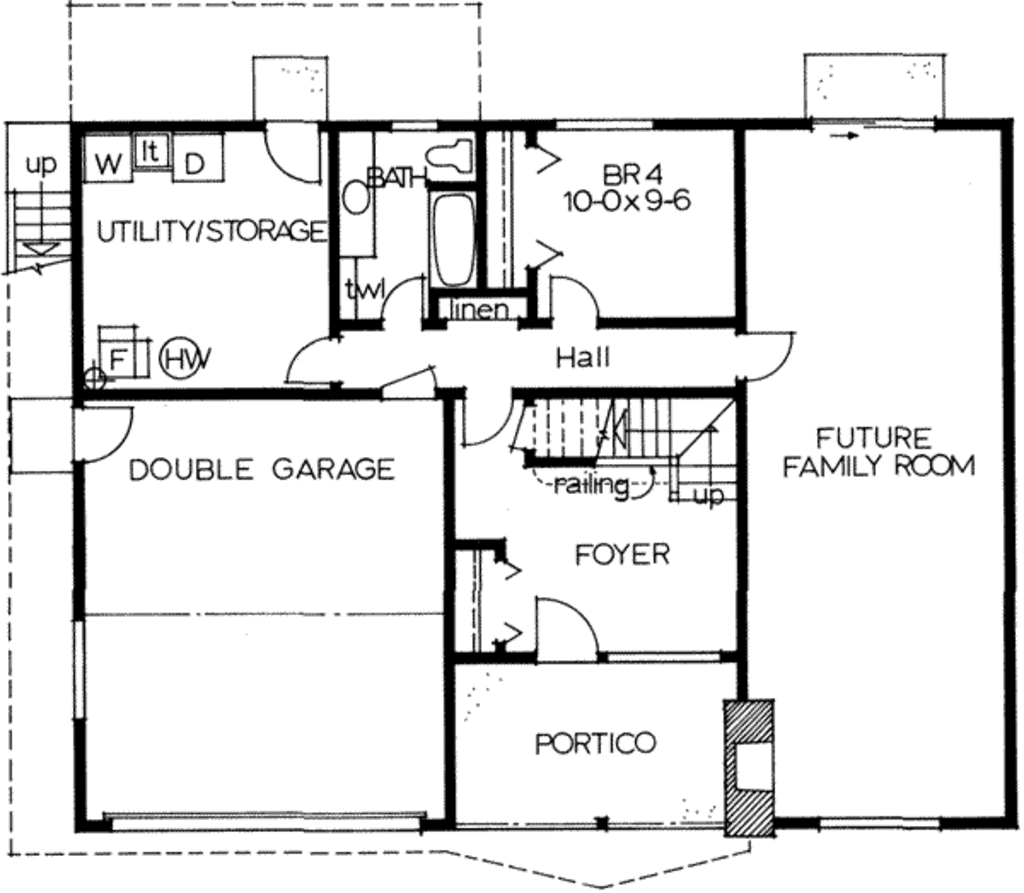door: (523, 593, 608, 663), (732, 320, 800, 383), (537, 269, 601, 334), (262, 123, 328, 186), (75, 408, 141, 466), (454, 386, 512, 448), (272, 336, 343, 386), (378, 270, 430, 334)
large_sink: (415, 129, 476, 177)
small_sink: (333, 125, 380, 258)
stairs: (519, 390, 744, 518), (5, 116, 73, 333)
tub: (421, 186, 483, 288)
window: (821, 813, 944, 832), (551, 120, 658, 133), (389, 116, 444, 137), (73, 619, 84, 715)
